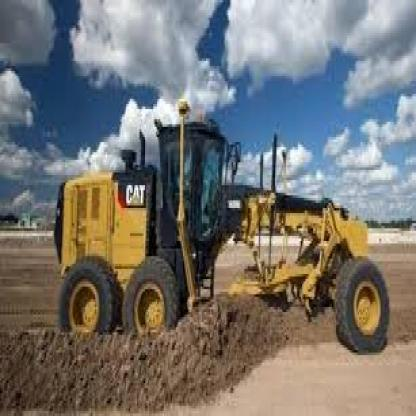bull_dozer/loader/grader: (46, 96, 388, 376)
